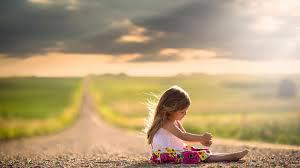child: (140, 81, 251, 165)
